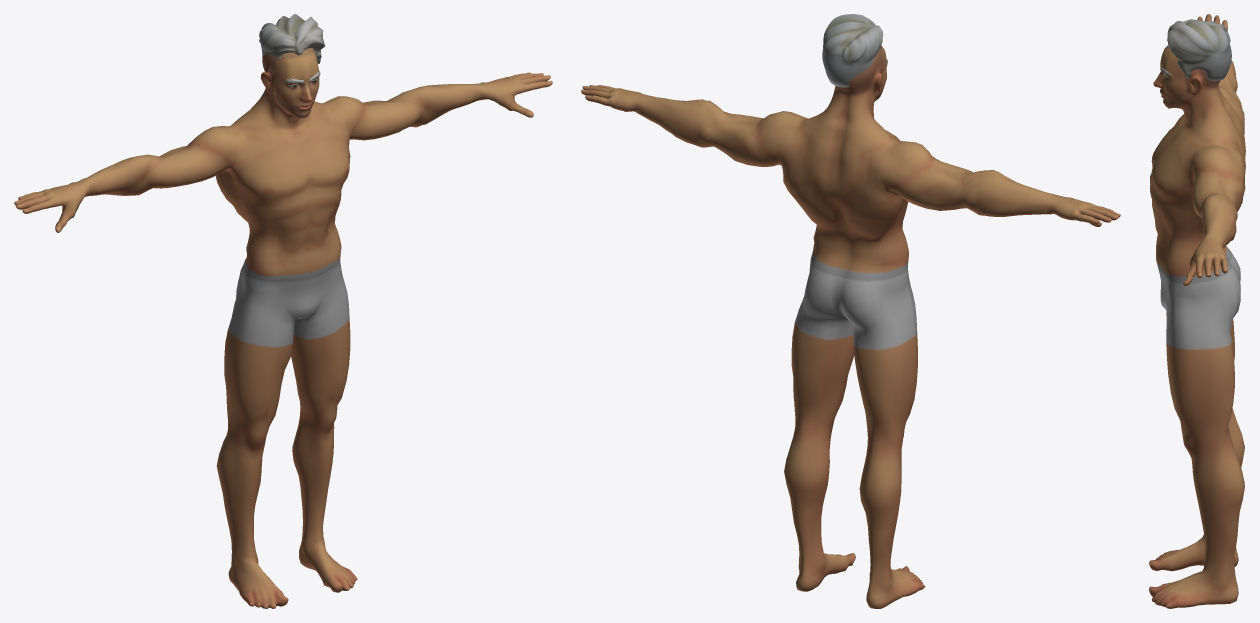
The model's file is character-male-a.glb.
3 views of the same model, side by side, from view 1: azimuth 30°, elevation 25°; view 2: azimuth 150°, elevation 25°; view 3: azimuth 270°, elevation 25° (orthographic).
Visible parts, largest first — view 1: crowd-body; view 2: crowd-body; view 3: crowd-body.
Part boxes in pixels (<box>): crowd-body: <box>14,14,552,608</box>; crowd-body: <box>581,14,1120,608</box>; crowd-body: <box>1149,14,1245,608</box>.
Bounding box in the file's own units: 1.78 × 1.8 × 0.2787.
4 materials, 4 textured.
